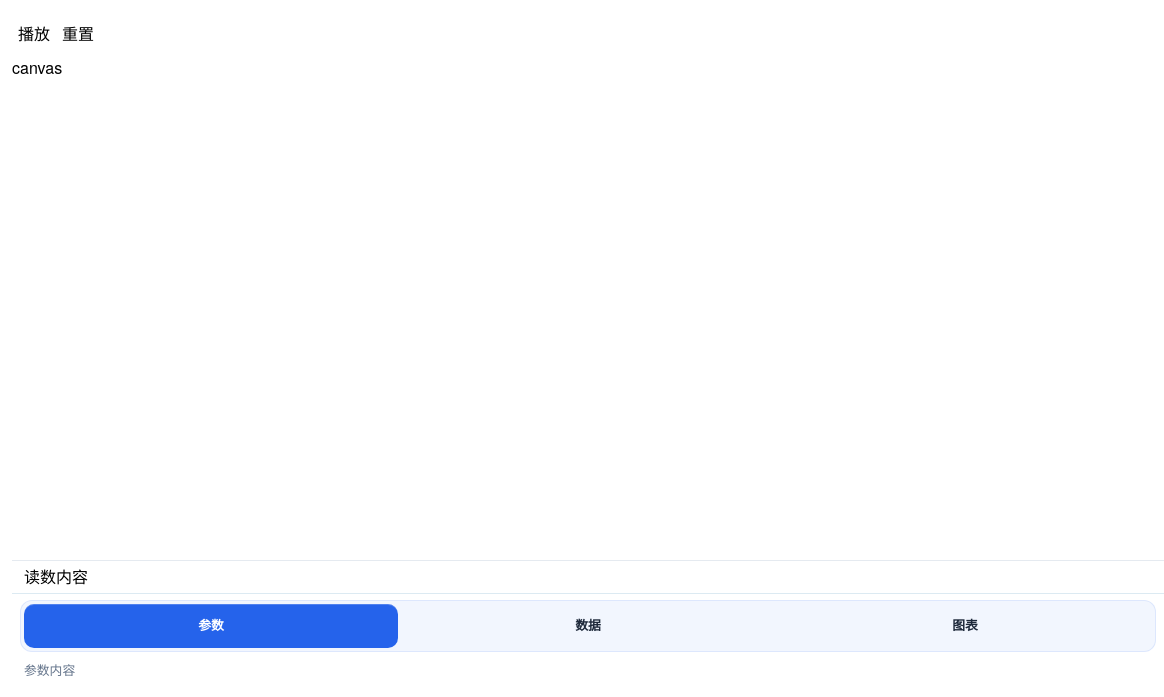
Scenario: SceneLayout on a phone › switches the bottom panel between 参数, 数据 and 图表
Check: the text "参数内容" is shown, box [24,660,75,679]
Click the radio button labelled "图表" at (965, 626), box [778,604,1152,648]
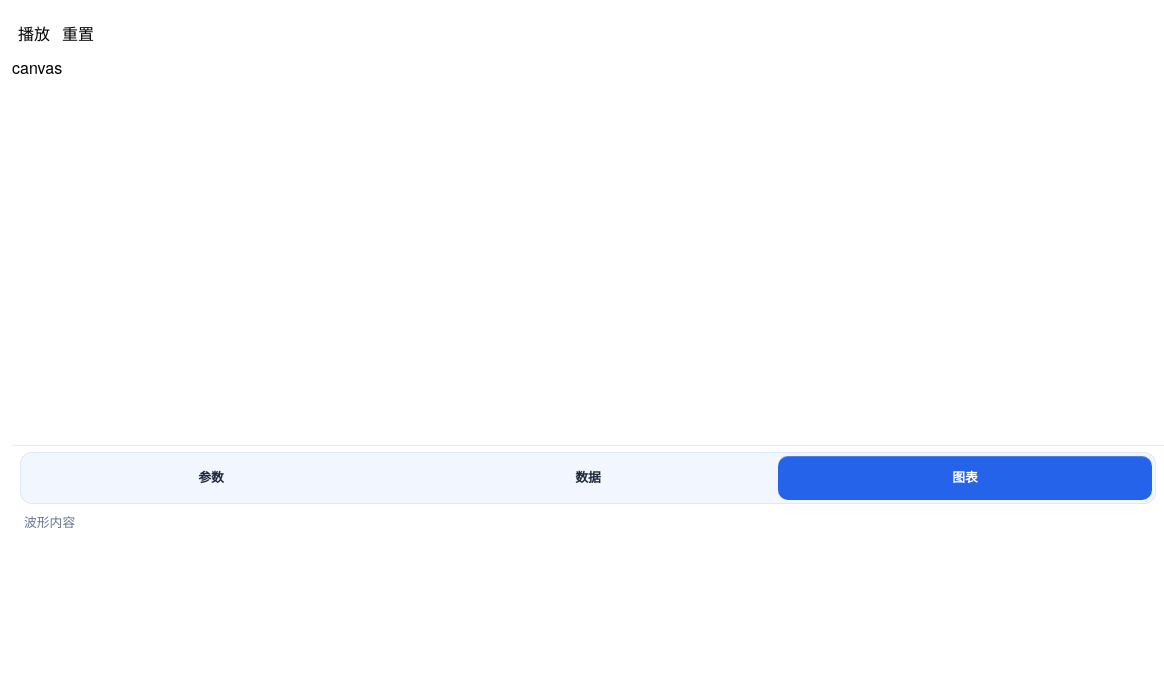
Check: the text "波形内容" is shown, box [24,512,75,531]
Check: the text "参数内容" is gone
